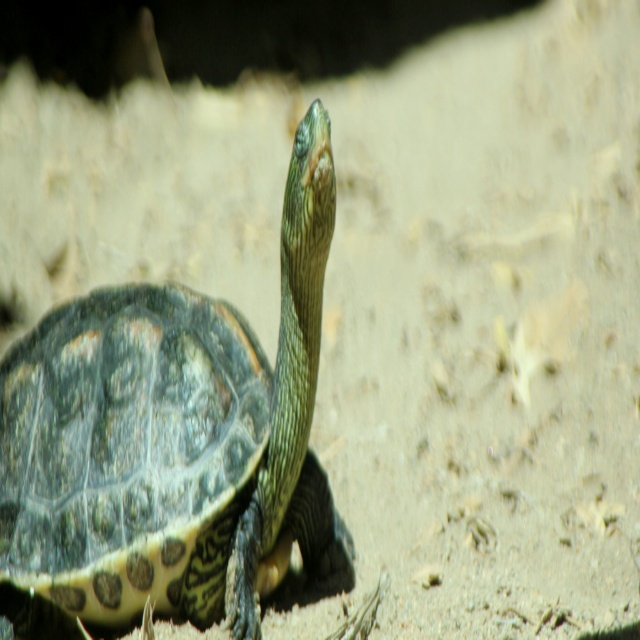Sea turtle: (0, 93, 357, 639)
